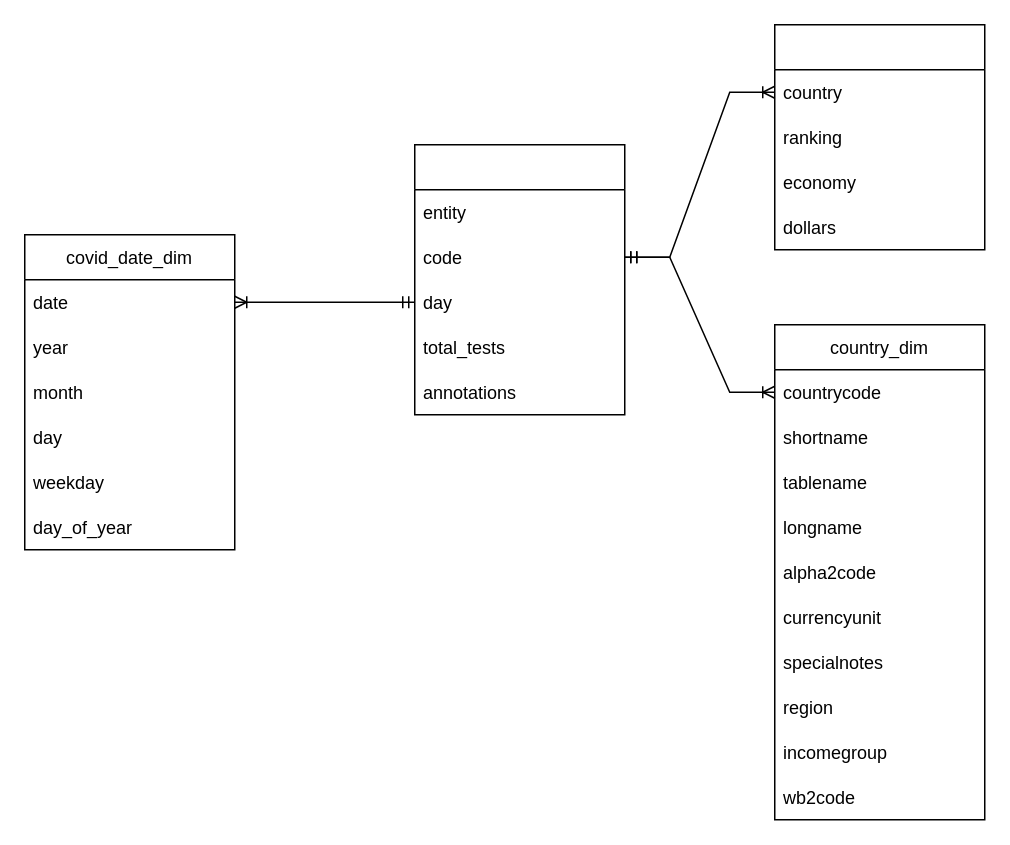
Image size: 1010x845. Some labels were removed from this diagram. Each missing label, with the box of its shape:
covid_events: (413, 143, 625, 415)
gdp_dim: (773, 23, 985, 250)
